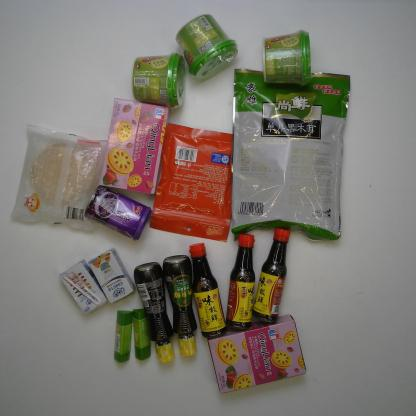Canned Food: (86, 184, 150, 242)
Dessert: (11, 118, 114, 233), (207, 313, 308, 395), (98, 96, 174, 197)
Dried Food: (229, 65, 356, 244)
Dried Fruit: (150, 120, 236, 245)
Instant Drink: (175, 13, 236, 78), (260, 29, 315, 90), (130, 51, 185, 110)
Milk: (88, 247, 137, 307), (60, 260, 107, 315)
Seasoner: (133, 261, 174, 364), (254, 228, 296, 325), (188, 241, 227, 341), (162, 254, 199, 358), (224, 233, 258, 332)
Stationery: (112, 309, 134, 363), (132, 308, 152, 361)
